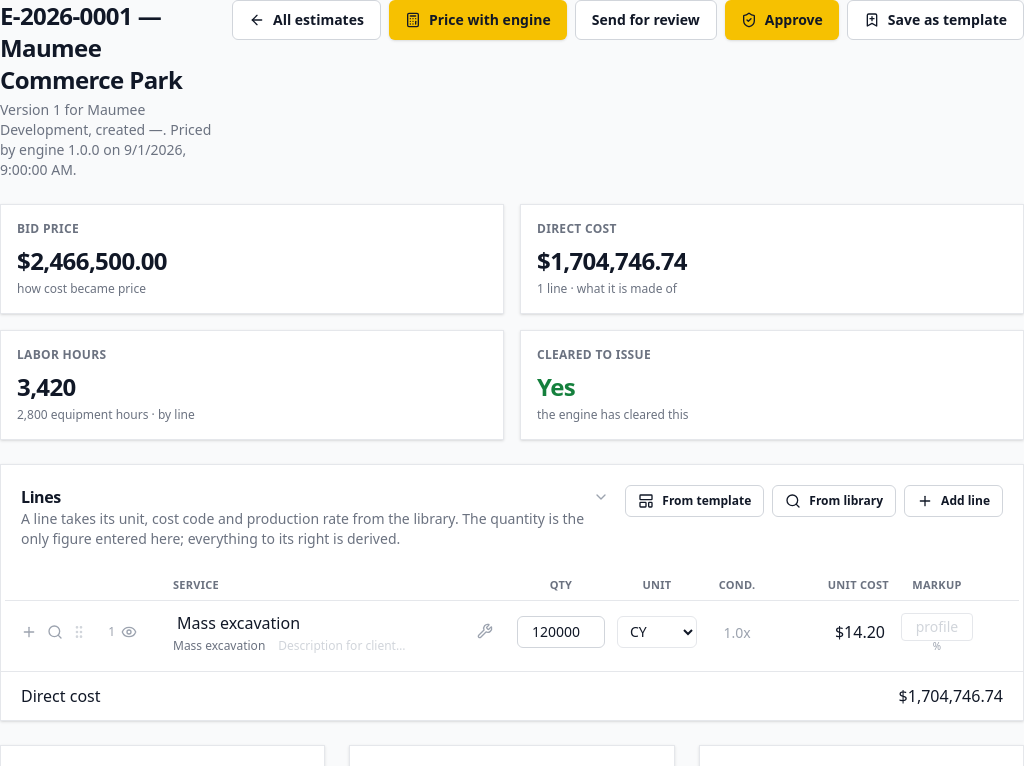
Test case: pricing an estimate from the workspace › explains a frozen version instead of showing a database exception
The width and height of the screenshot is (1024, 766).
Click the button "Price with engine".
click(478, 20)  # box x1=389 y1=0 x2=567 y2=40
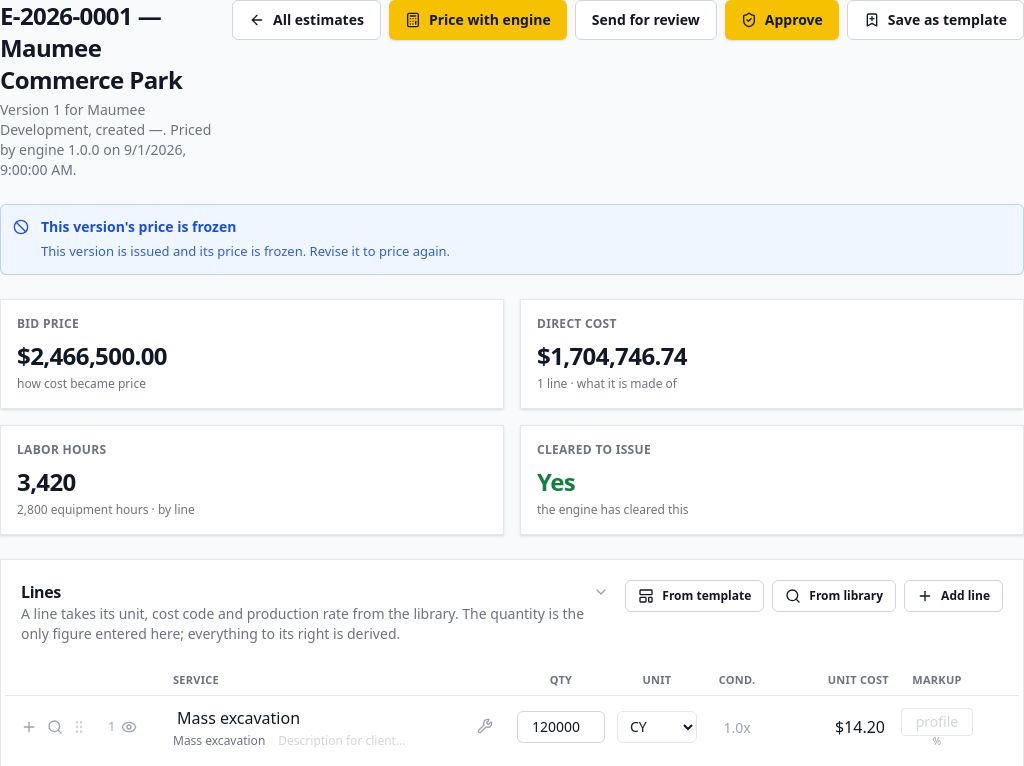
Expected: the text "Revise it to price again" is shown, x1=41 y1=242 x2=450 y2=260
